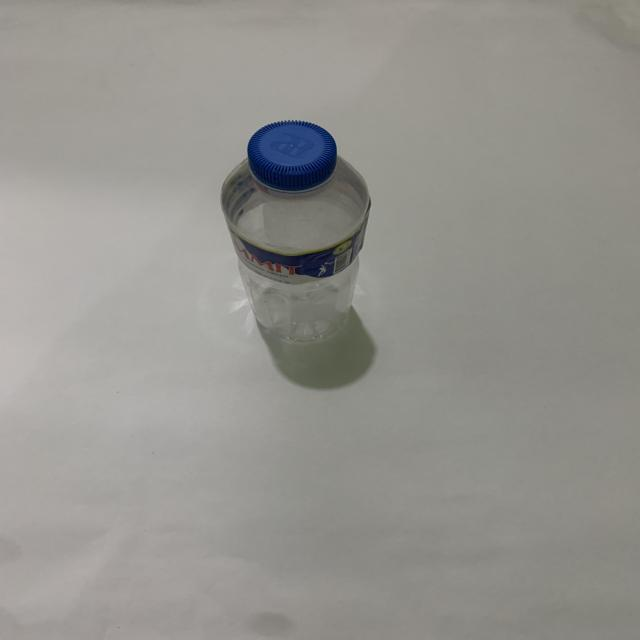empty: (220, 120, 371, 342)
